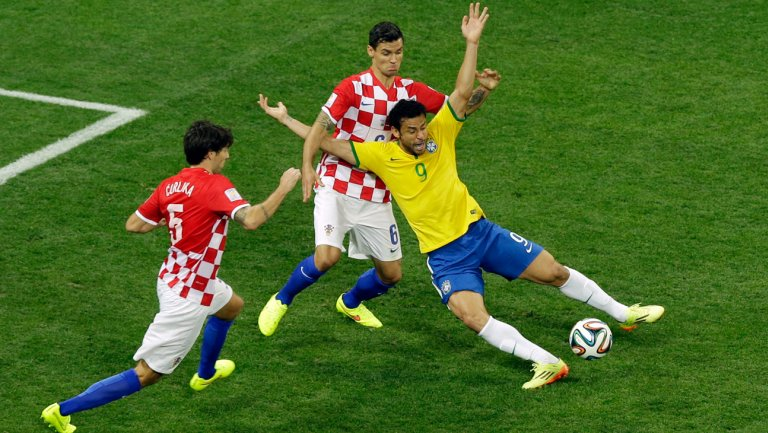football: (567, 315, 613, 361)
